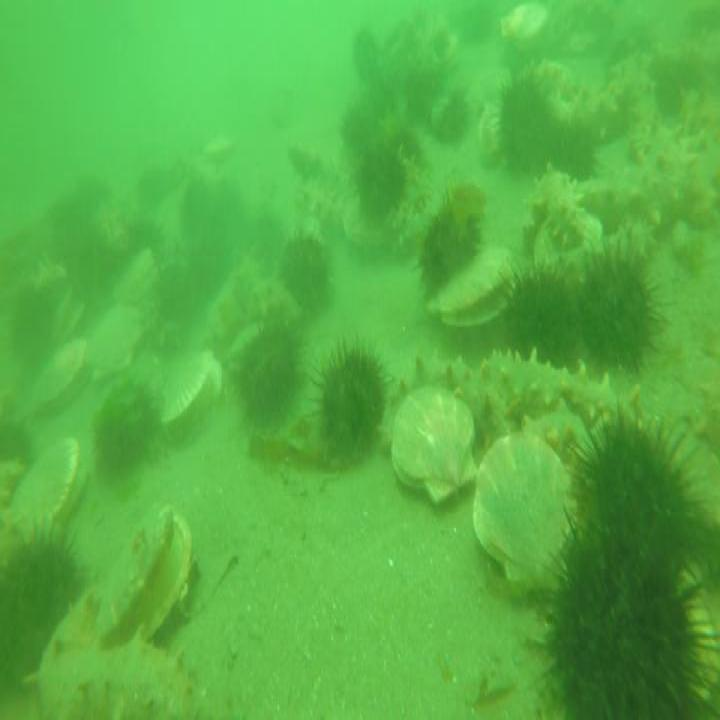echinus: (533, 515, 698, 720), (574, 398, 696, 583), (1, 532, 79, 692), (571, 242, 656, 380), (310, 343, 391, 477), (498, 260, 578, 370), (348, 112, 418, 229), (240, 320, 302, 432), (92, 380, 161, 480), (495, 71, 555, 181), (421, 192, 484, 288), (277, 235, 333, 320), (11, 284, 58, 368), (178, 178, 224, 256), (156, 259, 205, 329), (0, 395, 38, 471), (122, 208, 168, 265), (436, 86, 473, 150), (350, 19, 381, 89)
holothurian: (481, 338, 661, 450), (26, 627, 191, 720), (609, 127, 714, 229), (396, 350, 509, 434), (553, 73, 644, 153), (532, 160, 590, 263), (521, 398, 597, 466), (207, 260, 255, 346), (288, 172, 353, 234), (284, 137, 354, 192), (248, 270, 302, 325), (392, 156, 421, 249)
scallop: (476, 429, 579, 599), (95, 494, 196, 646), (390, 378, 481, 509), (12, 427, 87, 574), (423, 244, 518, 330), (159, 341, 222, 448), (28, 332, 91, 416), (532, 210, 610, 276), (91, 302, 144, 382), (498, 0, 552, 50)
